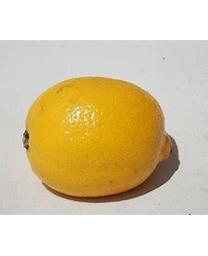lemon: (22, 76, 173, 198)
